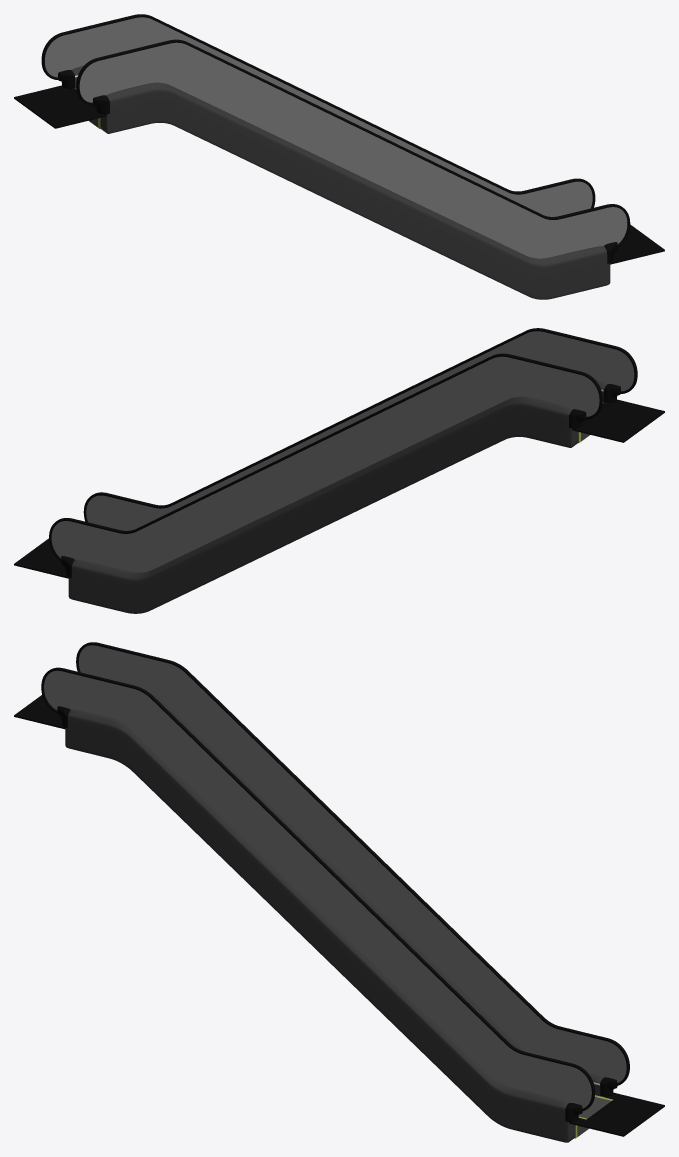
The model's file is Free 3D Escalator Model fbx.fbx.
3 renders of one model, top to bottom at view 1: azimuth 30°, elevation 25°; view 2: azimuth 150°, elevation 25°; view 3: azimuth 330°, elevation 25°, orthographic.
Parts seen in each view (by area): view 1: cgaxis_models_107_01_04, cgaxis_models_107_01_06, cgaxis_models_107_01_03, cgaxis_models_107_01_02; view 2: cgaxis_models_107_01_04, cgaxis_models_107_01_06, cgaxis_models_107_01_03, cgaxis_models_107_01_02; view 3: cgaxis_models_107_01_04, cgaxis_models_107_01_06, cgaxis_models_107_01_03, cgaxis_models_107_01_02.
Part boxes in pixels (x1,y1,x2,y2): cgaxis_models_107_01_04: [45, 17, 627, 258]; cgaxis_models_107_01_06: [71, 65, 610, 299]; cgaxis_models_107_01_03: [41, 14, 630, 263]; cgaxis_models_107_01_02: [14, 85, 664, 264]; cgaxis_models_107_01_04: [51, 331, 634, 572]; cgaxis_models_107_01_06: [68, 379, 607, 613]; cgaxis_models_107_01_03: [49, 328, 637, 577]; cgaxis_models_107_01_02: [14, 399, 664, 578]; cgaxis_models_107_01_04: [44, 645, 626, 1108]; cgaxis_models_107_01_06: [65, 694, 603, 1142]; cgaxis_models_107_01_03: [41, 642, 629, 1121]; cgaxis_models_107_01_02: [14, 695, 664, 1136].
Bounding box in the file's own units: 524 × 286 × 63.26.
Materials: 6 (1 with a texture image).
